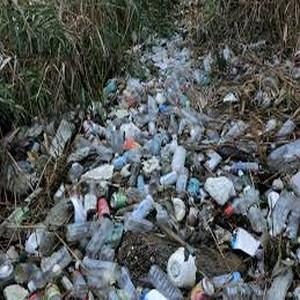Plastic: (148, 262, 176, 300), (221, 159, 260, 174)
